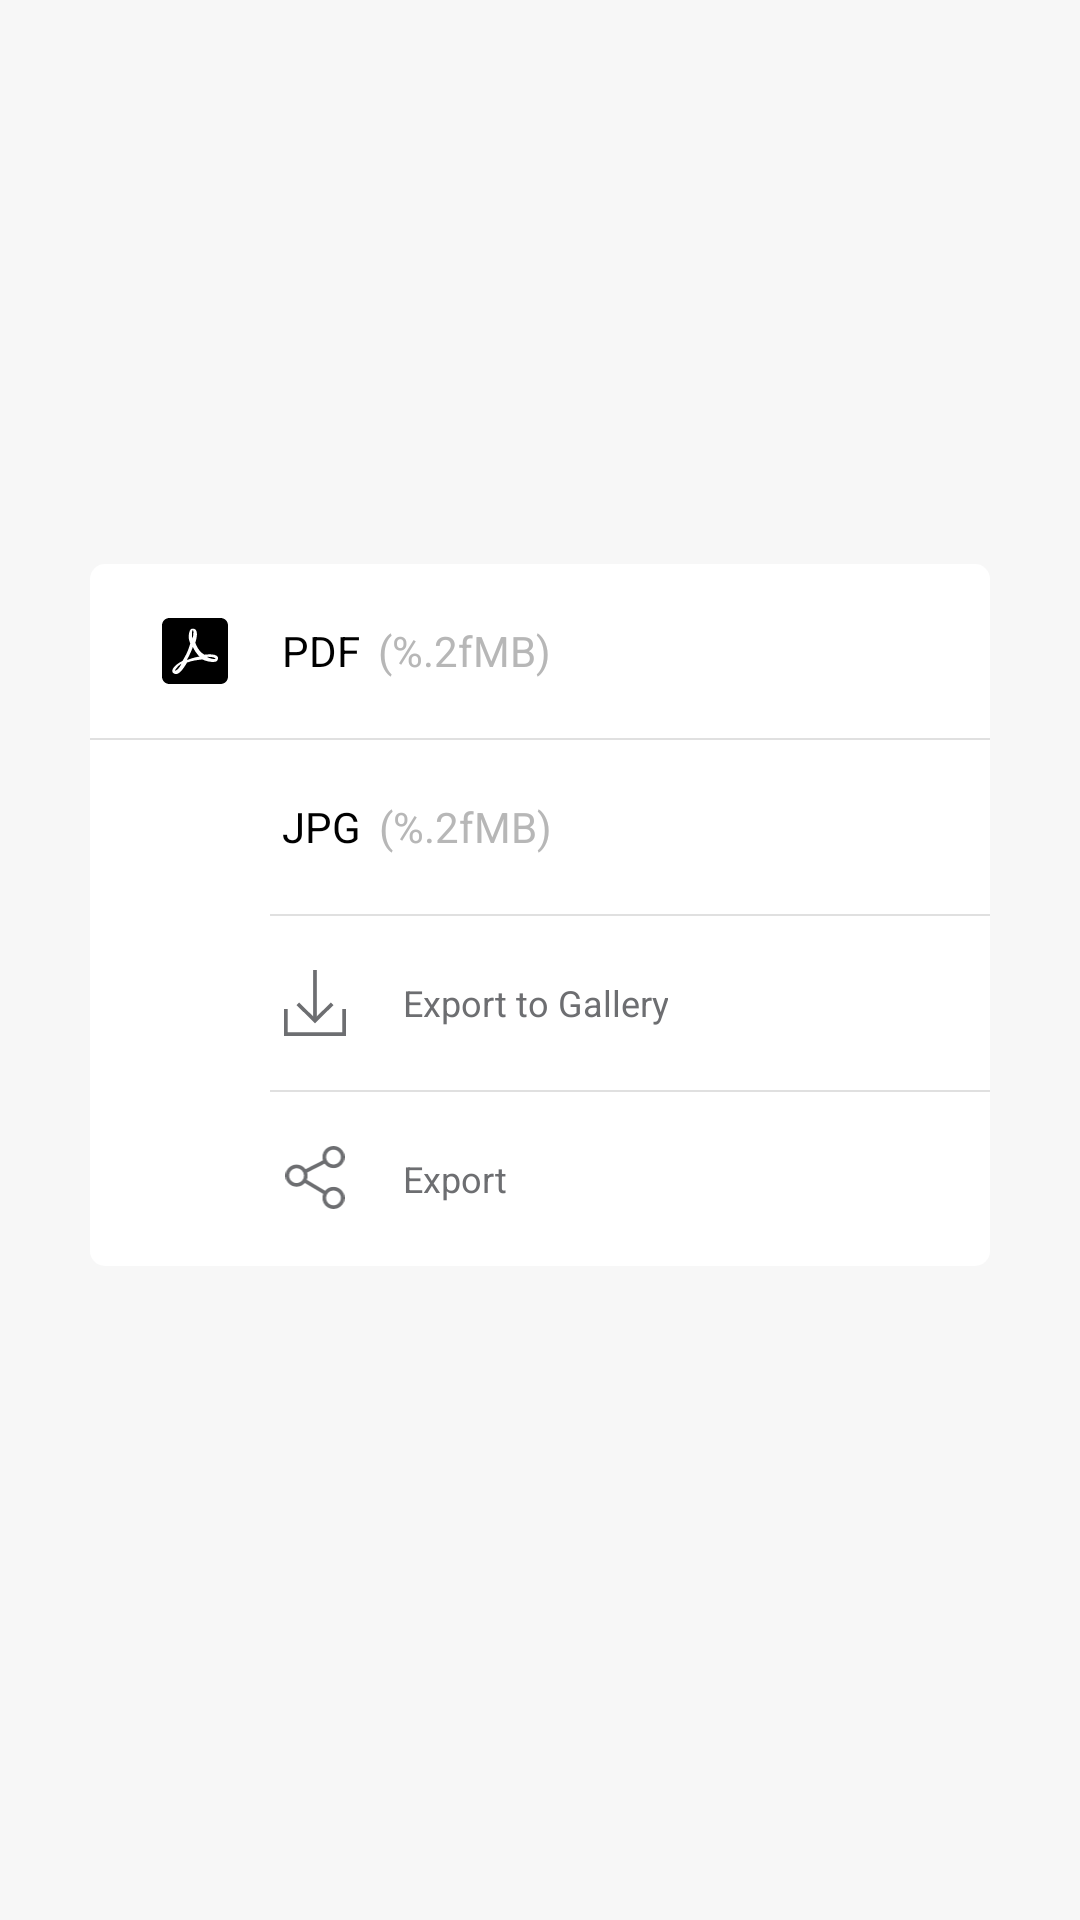

Icons on this 1080 × 1920 Android screen, each with its box as box(x1, y1, x2, y2):
all sendto share: box(285, 1146, 345, 1209)
home sendto gallery: box(284, 970, 346, 1036)
